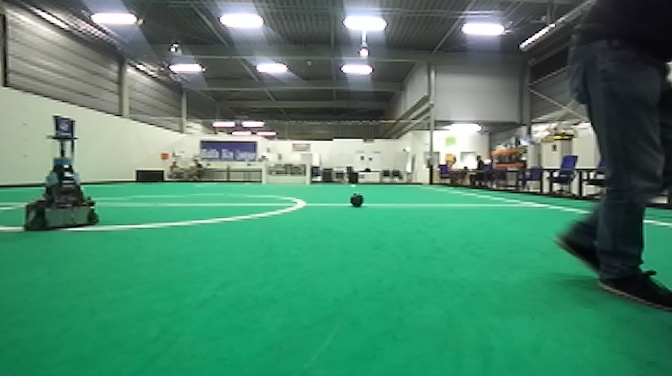ball: (348, 190, 366, 209)
goal: (261, 163, 310, 186)
goalpost: (305, 162, 311, 186), (261, 163, 266, 186)
human_part: (548, 1, 672, 316)
robot: (21, 107, 103, 235)
